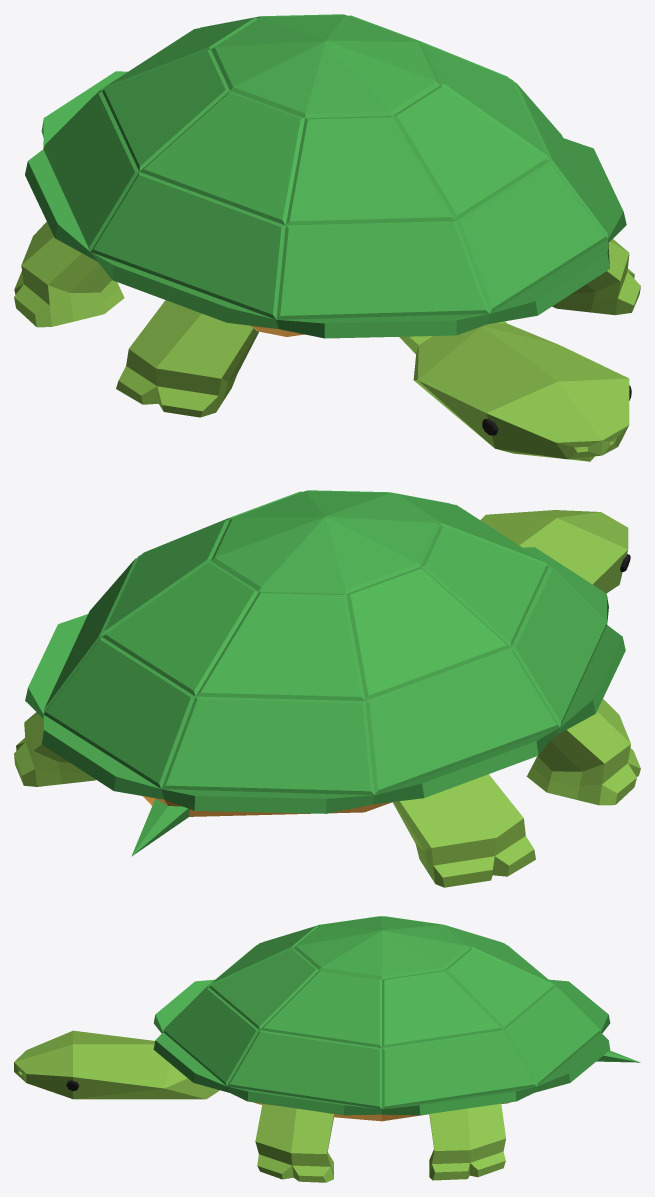
The model's file is turtle.glb.
3 renders of one model, top to bottom at view 1: azimuth 30°, elevation 25°; view 2: azimuth 150°, elevation 25°; view 3: azimuth 270°, elevation 25°, orthographic. The views are drawn at different scales.
Visible parts, largest first — view 1: Turtle_01_Circle.009; view 2: Turtle_01_Circle.009; view 3: Turtle_01_Circle.009.
Boxes of the visible parts, left/top/right/bottom form: Turtle_01_Circle.009: left=14, top=14, right=640, bottom=461; Turtle_01_Circle.009: left=14, top=490, right=640, bottom=887; Turtle_01_Circle.009: left=14, top=916, right=640, bottom=1182.
Bounding box in the file's own units: 8.94 × 4.4 × 14.6.
